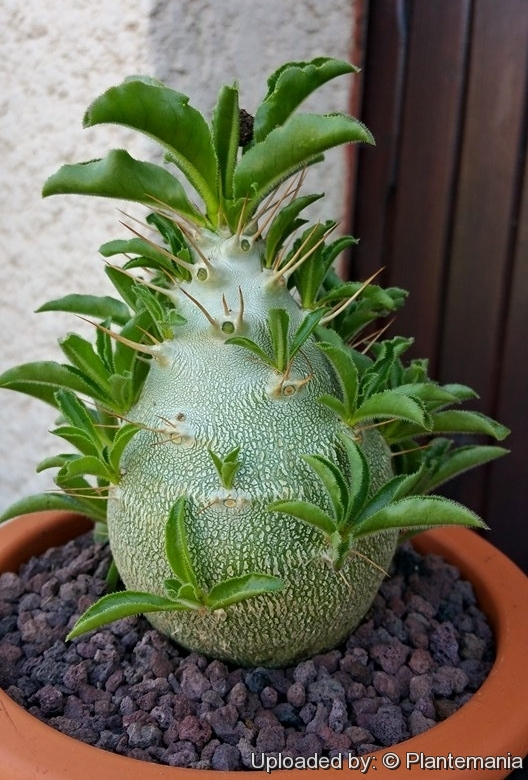Pachypodium saundersii: (30, 58, 492, 680)
